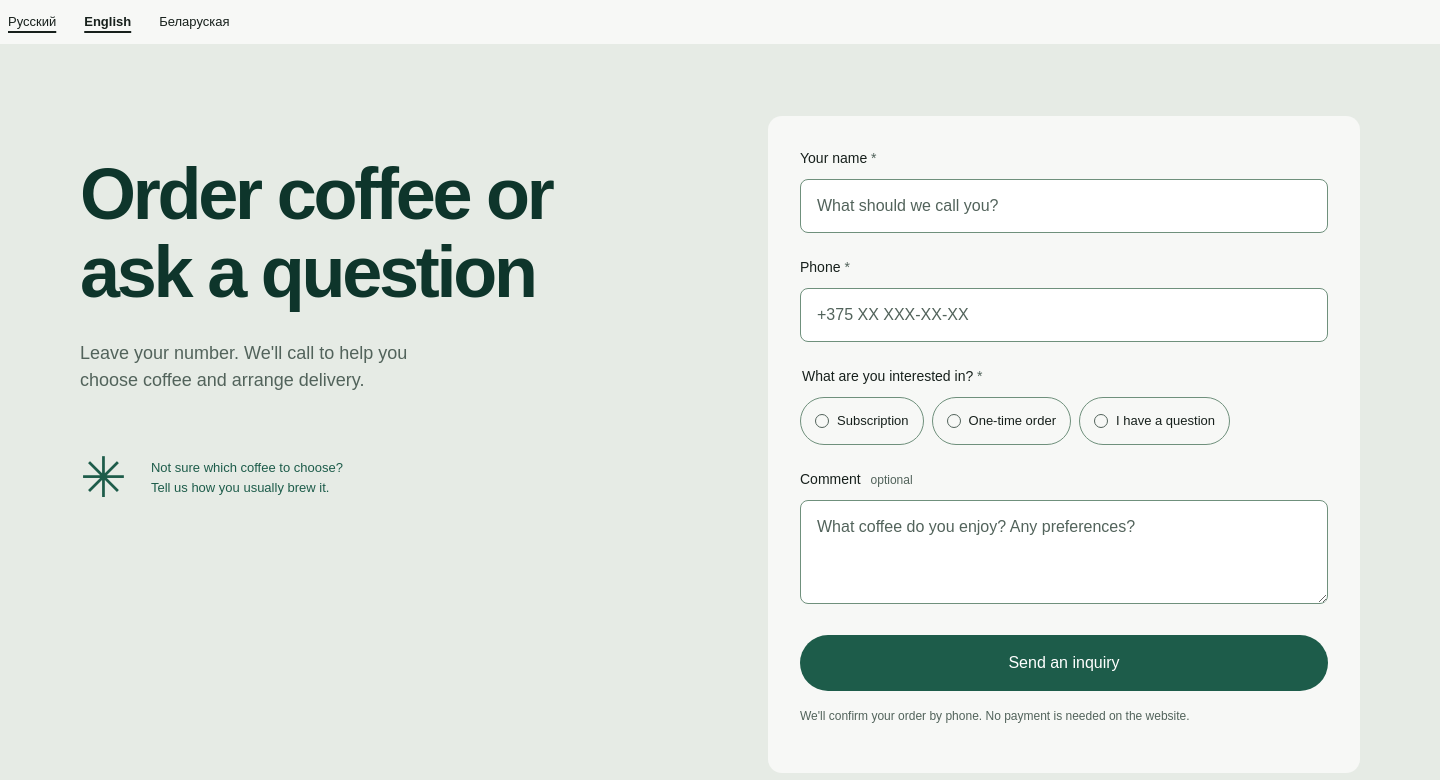
keeps the current draft when storage is blocked and explains recovery
Type "Synthetic blocked storage" into the field labelled "Your name *" at point(1064, 206), box [800,179,1328,233]
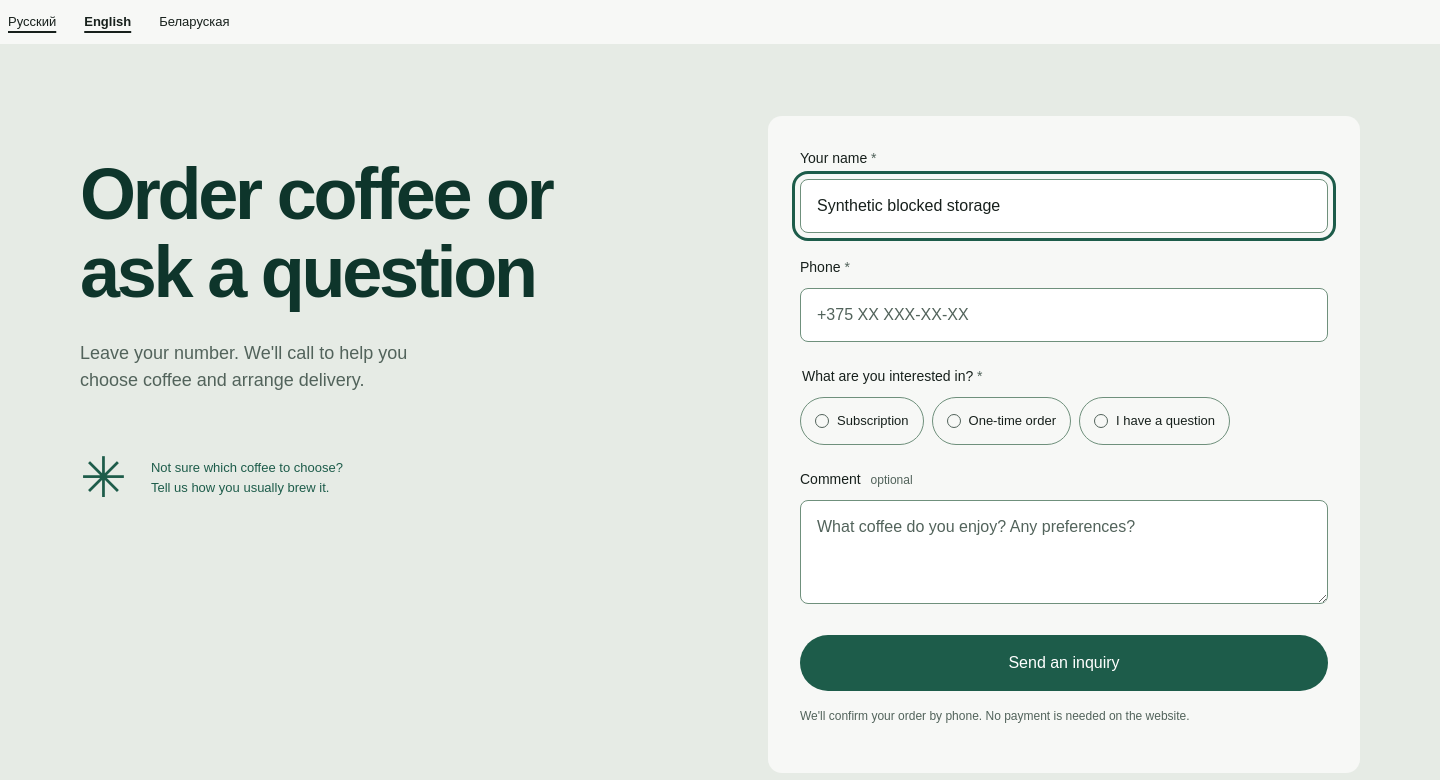
Click the link "Беларуская" at point(194, 22), box [159,14,230,29]
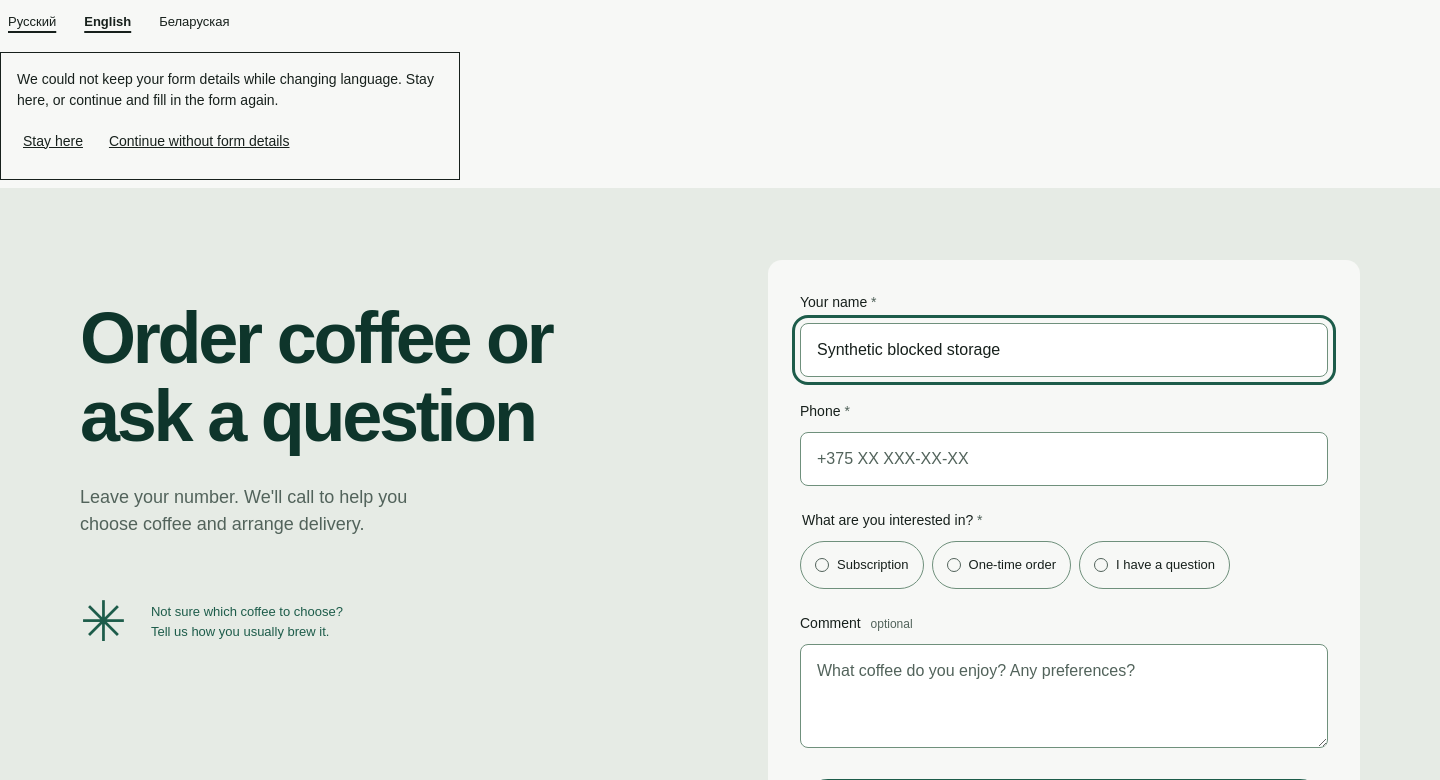
Check: the text "We could not keep your form details while changing language. Stay here, or continue and fill in the form again." is shown, box [17,71,434,108]
Check: the button "Stay here" is shown, box [17,119,89,163]
